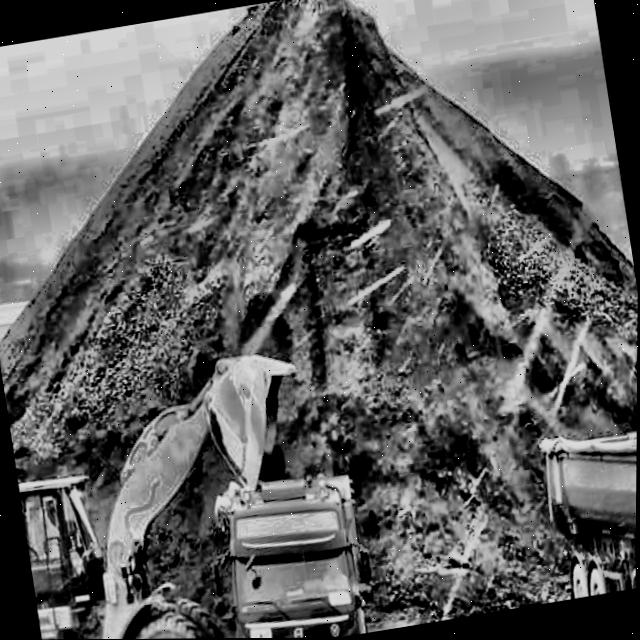buldozerpayloadergrader: (3, 343, 339, 640)
dump_truck: (198, 451, 381, 639), (527, 392, 638, 603)
